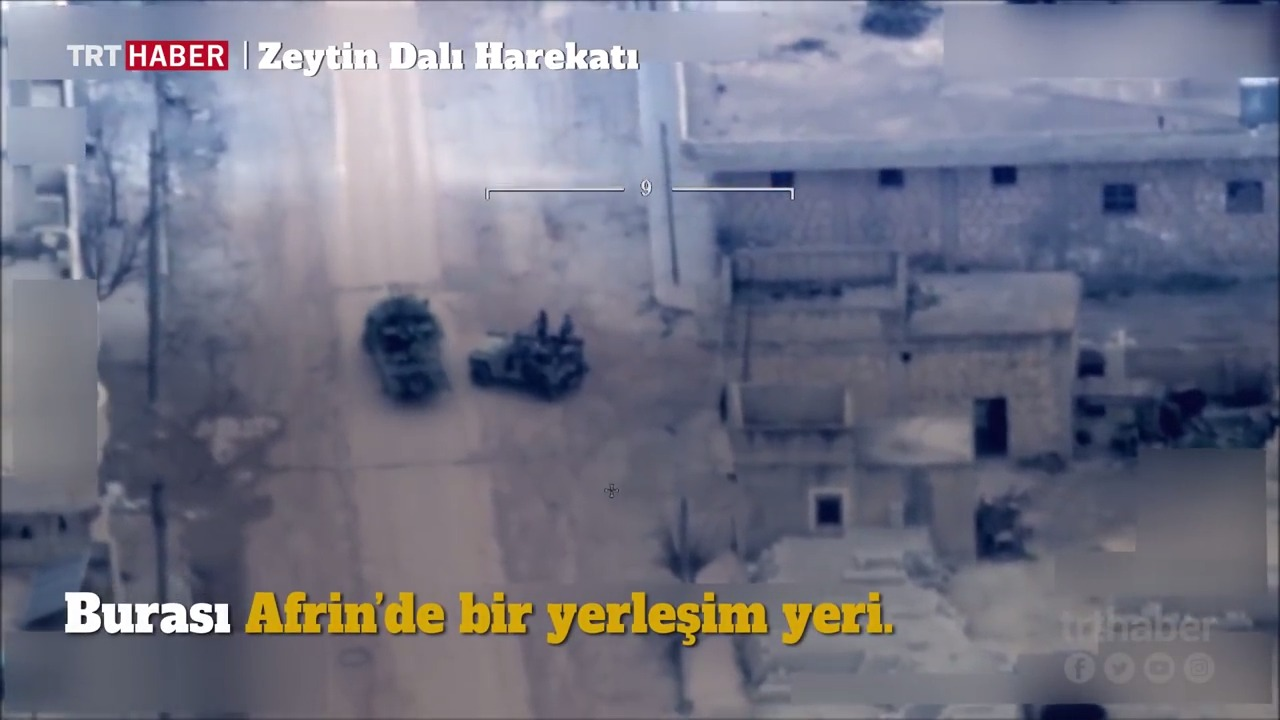arac: (364, 286, 455, 406), (465, 335, 581, 385)
bina: (694, 257, 1107, 468)
insan: (527, 305, 550, 340), (561, 313, 580, 339)
